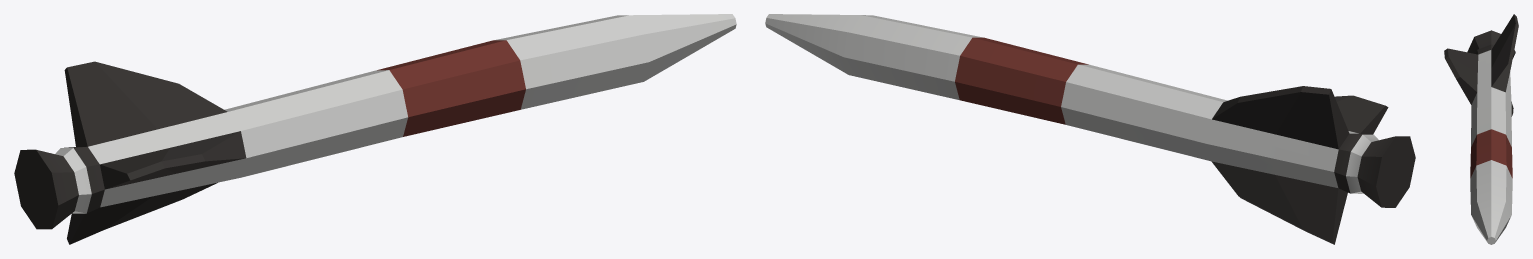
File: Torpedo.fbx
The picture shows the model from 3 angles, left to right: view 1: azimuth 30°, elevation 25°; view 2: azimuth 150°, elevation 25°; view 3: azimuth 270°, elevation 25°; orthographic projection. The views are drawn at different scales.
Visible parts, largest first — view 1: Torpedo; view 2: Torpedo; view 3: Torpedo.
Boxes of the visible parts, x1=… form: Torpedo: x1=14, y1=14, x2=736, y2=244; Torpedo: x1=765, y1=14, x2=1415, y2=244; Torpedo: x1=1444, y1=14, x2=1518, y2=244.
Size of the model in its own units: 84.63 by 20.35 by 14.25.
